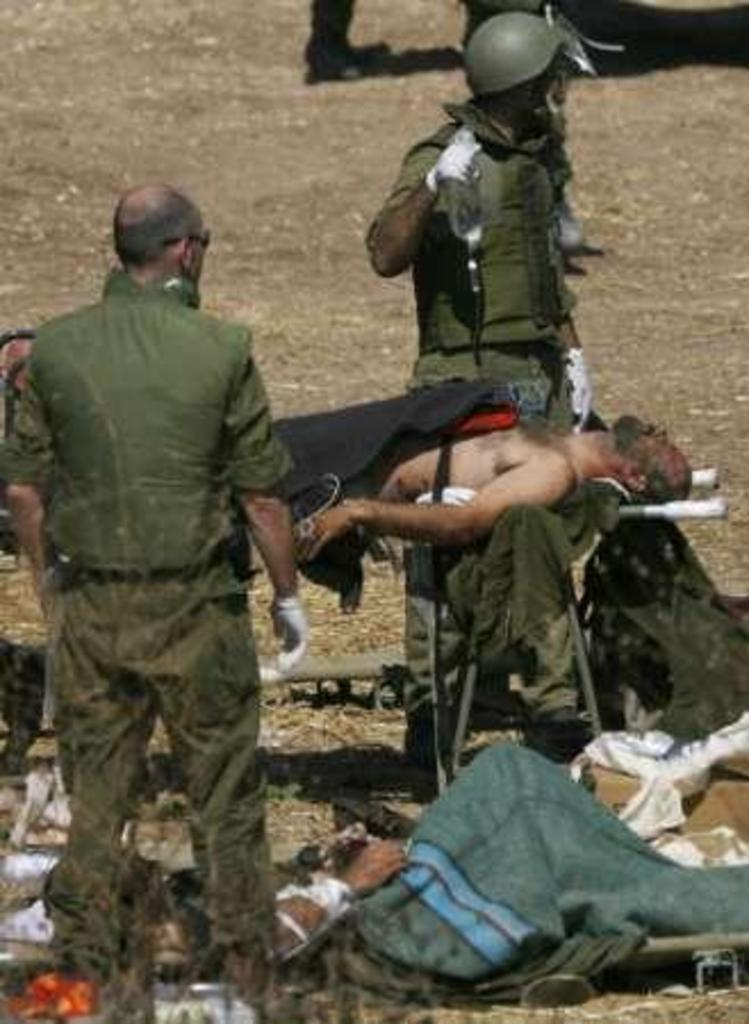Person: (2, 176, 297, 1009), (365, 11, 595, 806), (43, 745, 749, 987), (0, 377, 695, 568), (301, 0, 395, 90)
